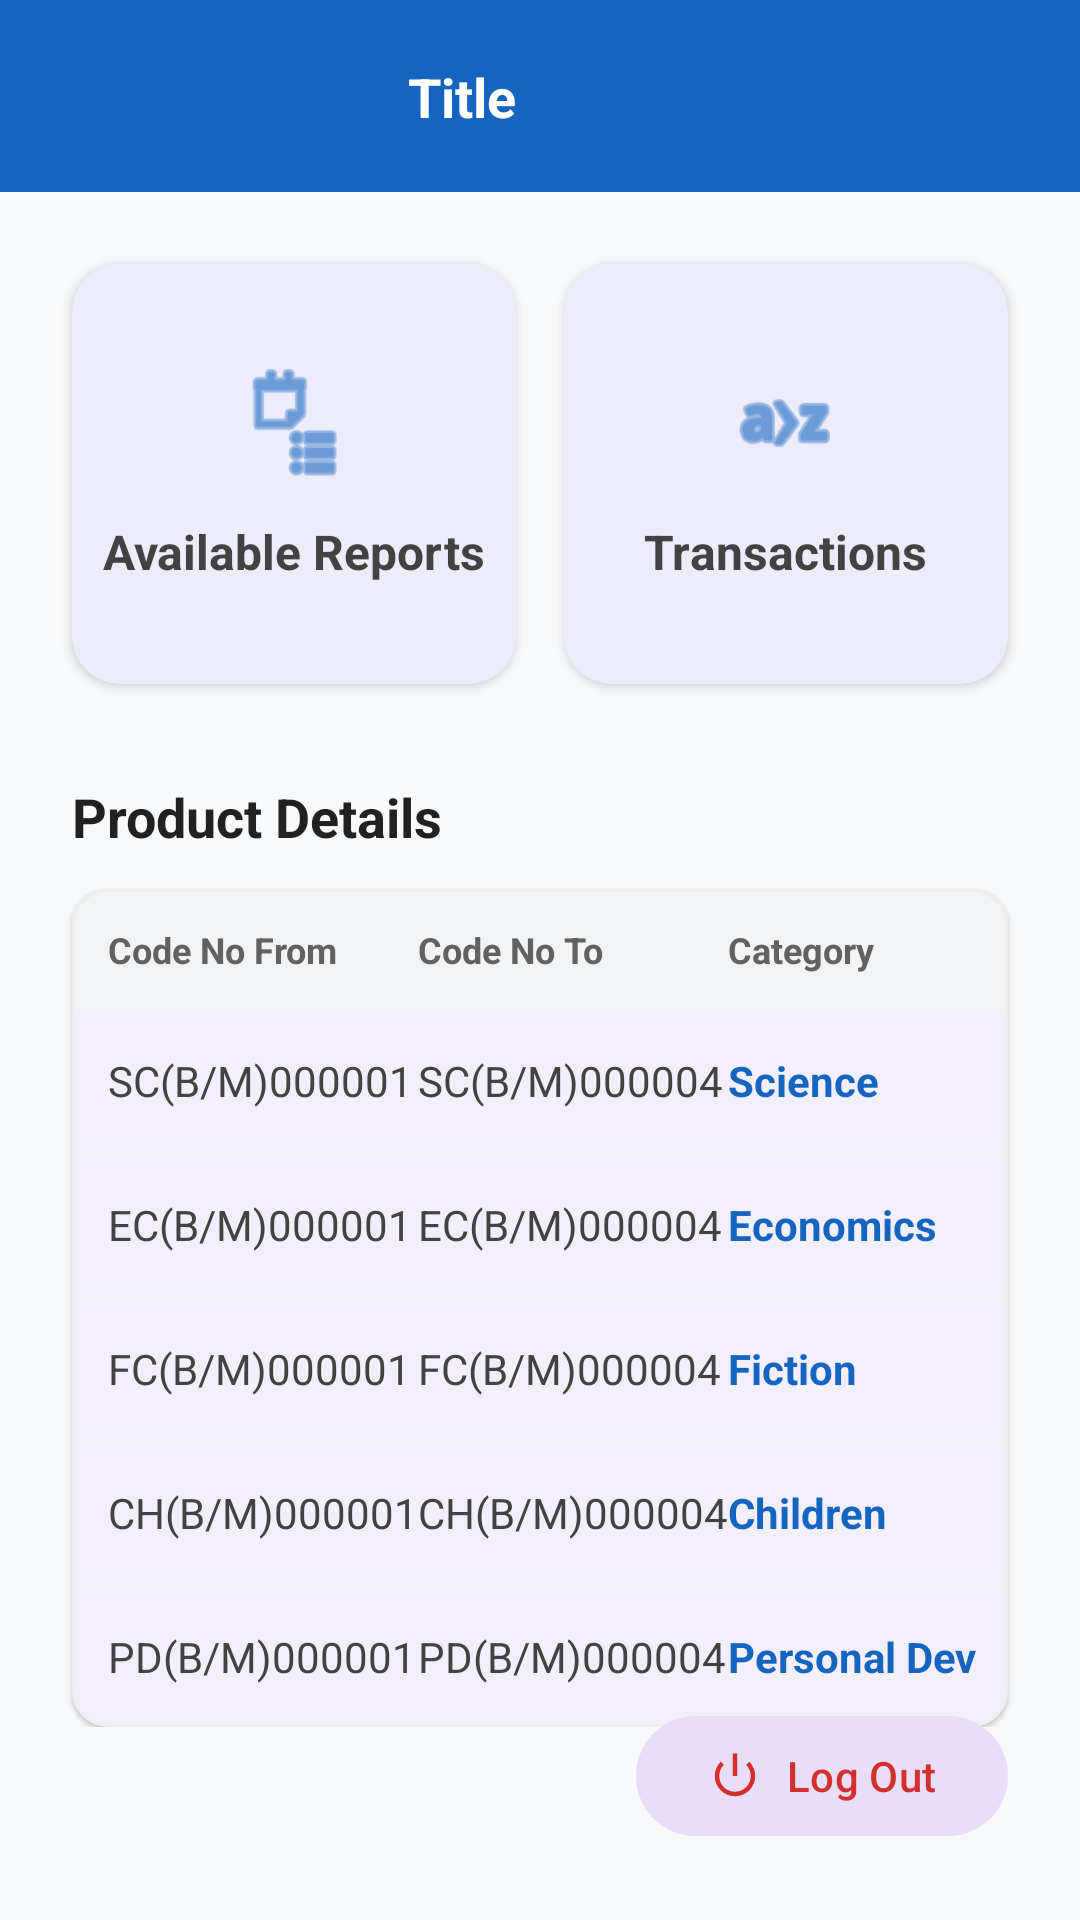

Named icons in this screenshot (1080*1920) and their bounding boxes, detection(x1, y1, x2, y2):
agenda: detection(252, 369, 337, 476)
sort alphabetically: detection(739, 399, 830, 447)
